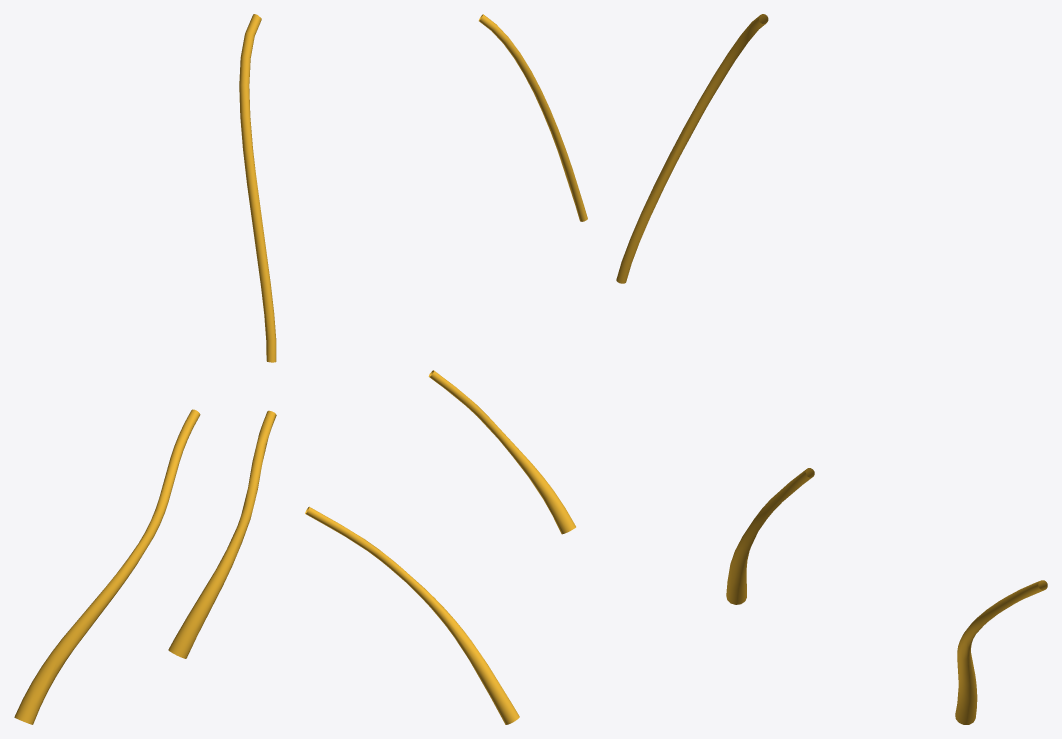
File: nervoso-anterior-root-of-posterior-femoral-cutaneous-nerve-r.glb
The picture shows the model from 3 angles, left to right: view 1: azimuth 30°, elevation 25°; view 2: azimuth 150°, elevation 25°; view 3: azimuth 270°, elevation 25°; orthographic projection. The views are drawn at different scales.
Parts seen in each view (by area): view 1: Anterior root of posterior femoral cutaneous nerve.r; view 2: Anterior root of posterior femoral cutaneous nerve.r; view 3: Anterior root of posterior femoral cutaneous nerve.r.
Part boxes in pixels (x1,y1,x2,y2): Anterior root of posterior femoral cutaneous nerve.r: (14, 14, 276, 724); Anterior root of posterior femoral cutaneous nerve.r: (305, 14, 587, 724); Anterior root of posterior femoral cutaneous nerve.r: (616, 14, 1047, 724).
Size of the model in its own units: 0.0251 by 0.0817 by 0.0412.
